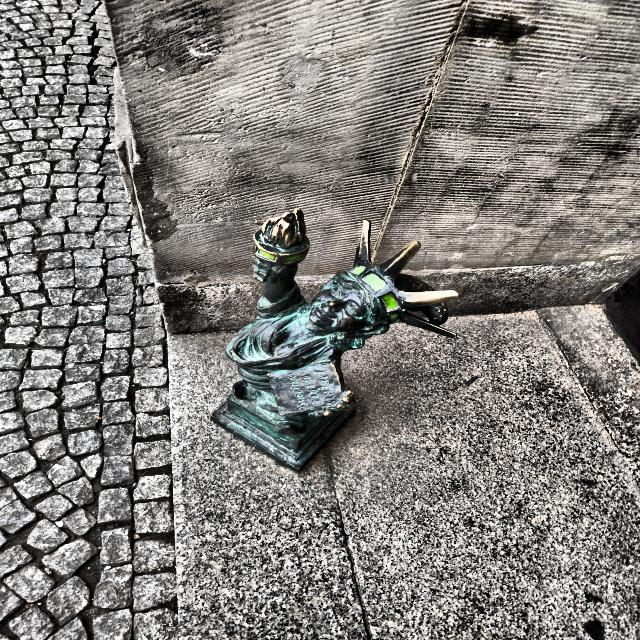LadyWolnosc: (213, 209, 458, 470)
